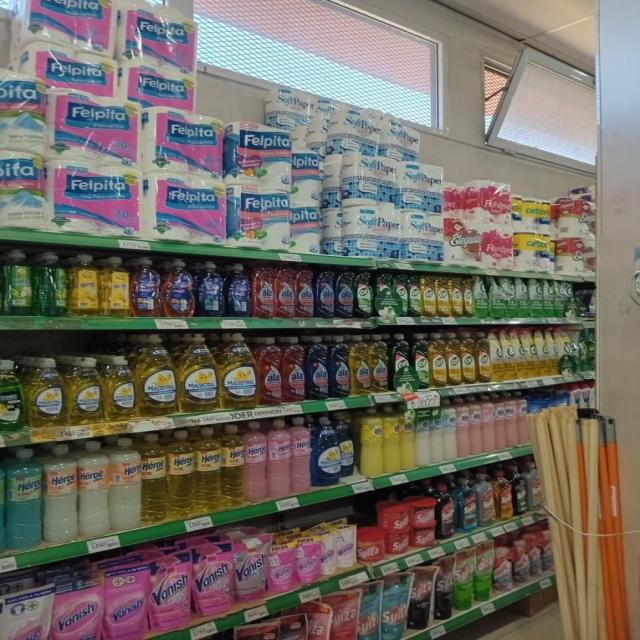ala_conc_amarillo: (350, 334, 369, 395), (370, 334, 389, 394)
ala_conc_azul: (306, 334, 328, 400), (329, 335, 349, 398), (316, 266, 334, 318), (336, 268, 354, 318)
ala_conc_rojo: (258, 335, 282, 406), (283, 335, 305, 403), (252, 262, 274, 318), (275, 262, 295, 318), (296, 263, 314, 318)
ala_crem_amarillo: (358, 407, 383, 477), (383, 406, 400, 474), (400, 404, 414, 471)
ala_crem_blanco: (416, 405, 430, 468), (443, 400, 457, 461), (430, 405, 443, 464), (534, 392, 549, 442)
ala_crem_rosado: (457, 398, 470, 458), (470, 396, 482, 456), (482, 395, 494, 453), (506, 392, 518, 448), (518, 392, 530, 446), (495, 394, 506, 451)
cif_conc_bot_amarilla: (430, 332, 446, 388), (446, 332, 461, 386), (461, 331, 475, 385), (476, 332, 489, 384), (491, 329, 503, 383), (421, 276, 435, 318), (436, 277, 449, 317), (450, 277, 462, 317), (462, 276, 473, 318)
cif_conc_botella_verde: (390, 333, 411, 390), (412, 333, 429, 389), (374, 271, 394, 318), (356, 269, 373, 318), (394, 273, 407, 317), (408, 275, 420, 317)
cif_conc_sachet_verde: (474, 276, 488, 318)
heroe: (6, 447, 42, 550), (43, 443, 77, 544), (78, 440, 109, 538), (110, 437, 141, 531), (167, 430, 194, 518), (195, 427, 221, 513), (142, 432, 166, 524), (267, 419, 291, 498), (244, 421, 267, 503), (222, 423, 244, 508), (291, 416, 311, 494)
magistral_con_amarillo: (178, 333, 218, 412), (219, 333, 257, 409), (26, 357, 66, 428), (137, 347, 177, 416), (68, 356, 102, 425), (104, 356, 136, 421)
zorro: (163, 258, 195, 318), (197, 261, 225, 318), (227, 262, 250, 318)
